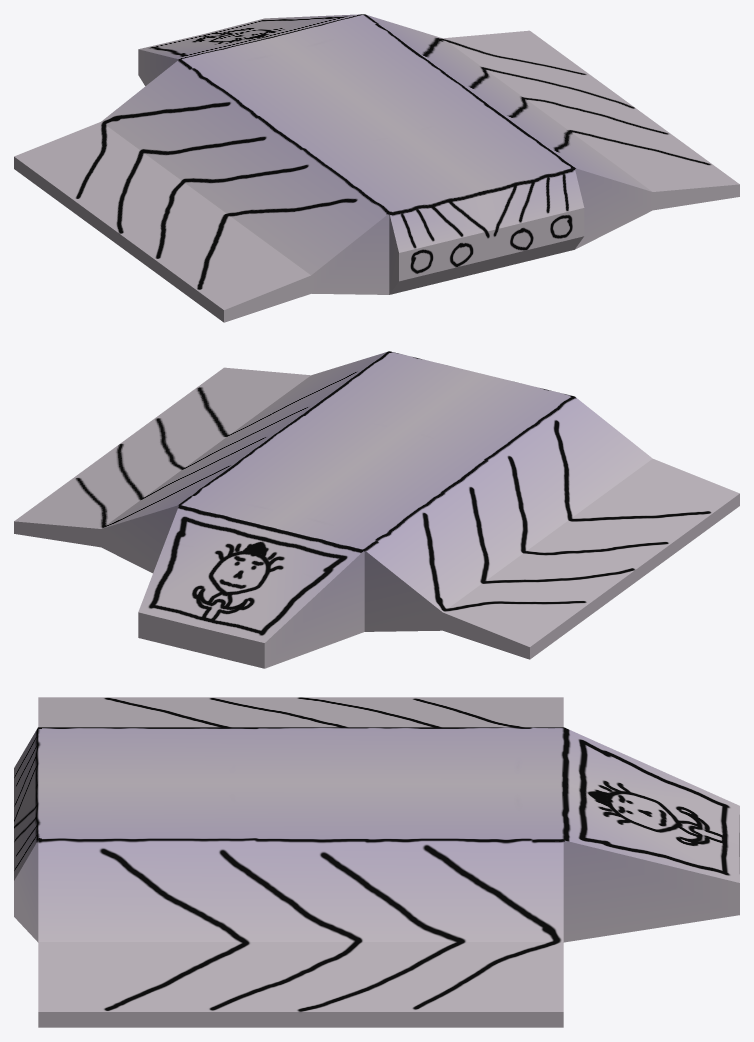
File: ship.glb
The picture shows the model from 3 angles, top to bottom: view 1: azimuth 30°, elevation 25°; view 2: azimuth 150°, elevation 25°; view 3: azimuth 270°, elevation 25°; orthographic projection. The views are drawn at different scales.
Visible parts, largest first — view 1: Cube; view 2: Cube; view 3: Cube.
Boxes of the visible parts, x1,y1,x2,y2 form: Cube: [14, 14, 739, 322]; Cube: [14, 351, 739, 668]; Cube: [14, 697, 739, 1027].
Size of the model in its own units: 2.84 by 0.4295 by 2.76.
1 material, 1 textured.
